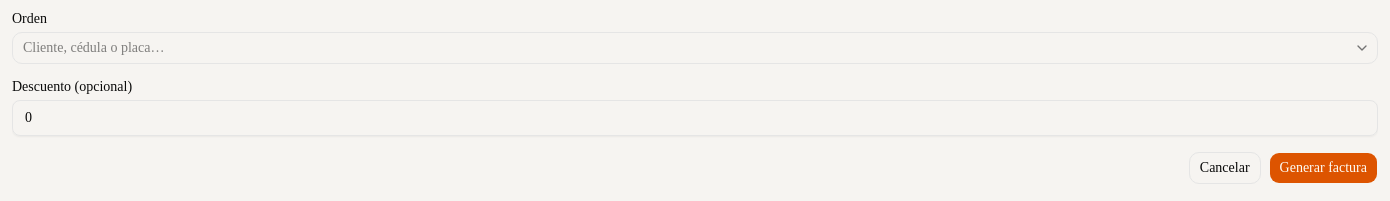
NuevaFacturaForm › filters the orden options by cliente, cédula, or placa as you type
The image size is (1390, 201).
Type "79445210" into the dropdown at (695, 48), box [12,32,1378,64]
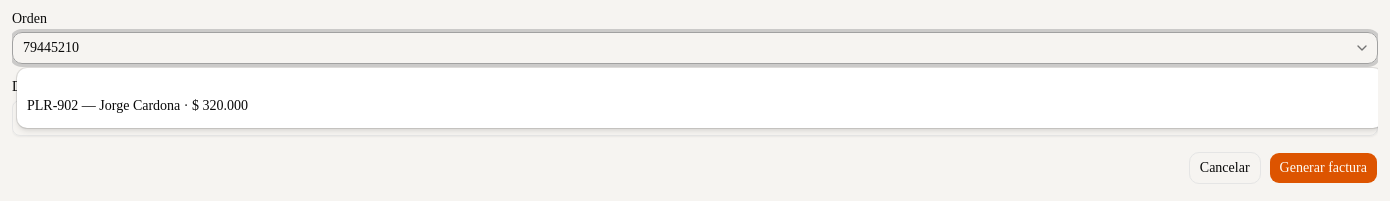
Check: the option "PLR-902 — Jorge Cardona · $ 320.000" is shown, box [27,98,248,113]
